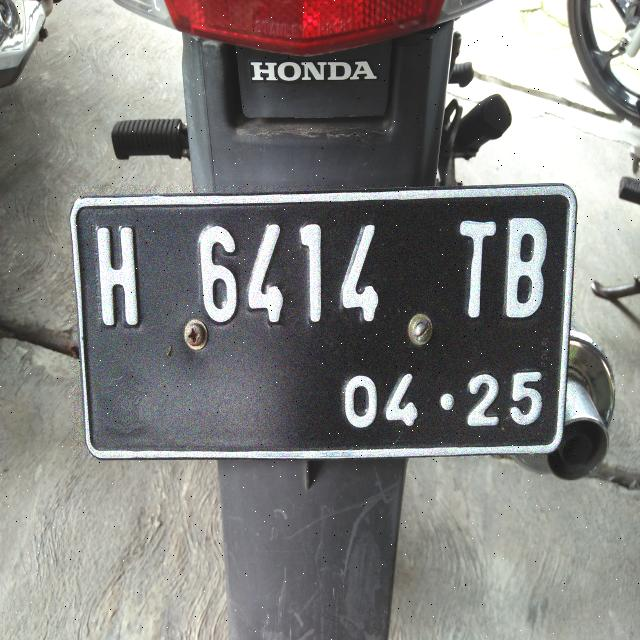plate: (72, 186, 575, 457)
